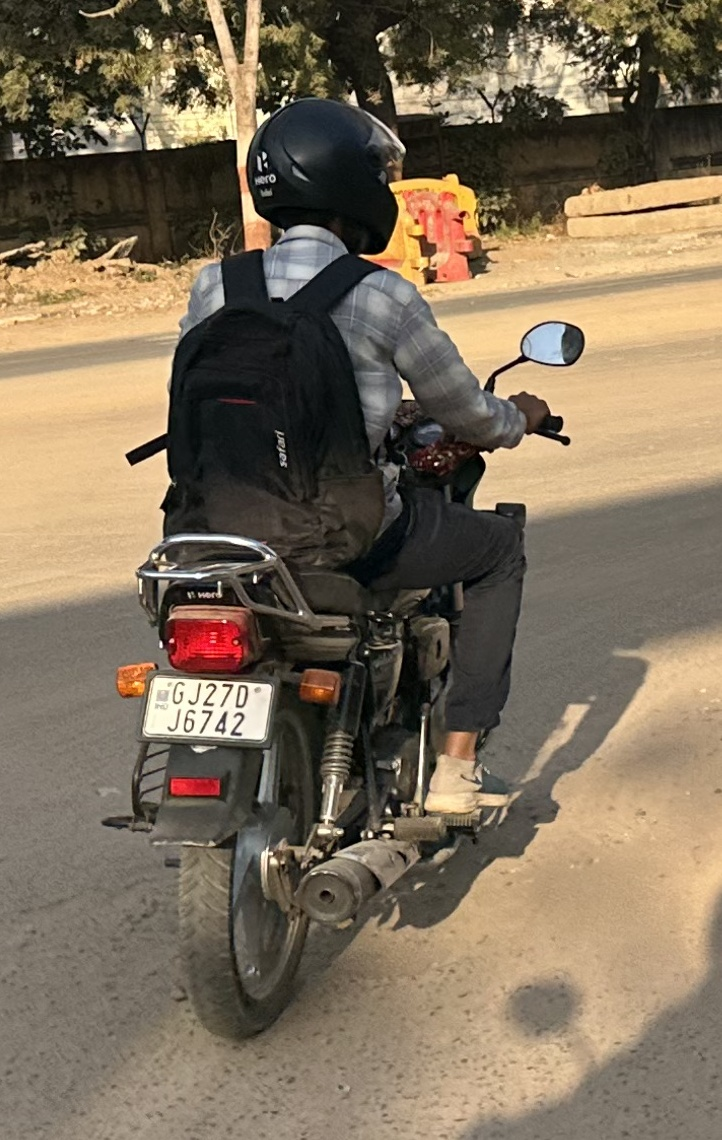BikeWithRider: (85, 85, 596, 1055)
Helmet: (231, 88, 418, 265)
